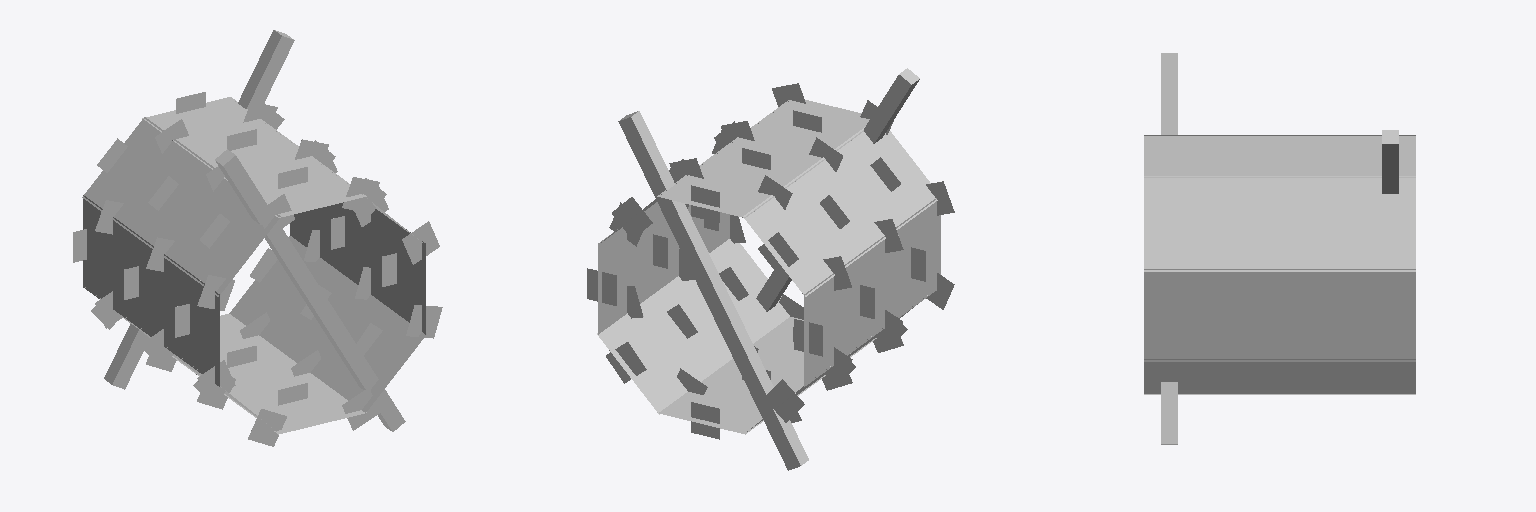
The model's file is 879_barbed_wire.obj.
3 renders of one model, left to right at view 1: azimuth 30°, elevation 25°; view 2: azimuth 150°, elevation 25°; view 3: azimuth 270°, elevation 25°, orthographic.
Parts seen in each view (by area): view 1: wire2, wire6, wire3, wire1, wire7, wire5, support1, support2, navajas6m6, navajas6m5, navajas6, navajas6m4 (+4 smaller); view 2: wire2, wire6, wire3, wire1, support2, wire7, wire5, support1, navajas1, navajas1m6, navajas1m5, navajas1m2 (+4 smaller); view 3: wire8, wire7, wire1, wire6, support1, support2.
Boxes of the visible parts, x1=… form: wire2: x1=82, y1=117, x2=280, y2=296; wire6: x1=229, y1=236, x2=426, y2=414; wire3: x1=83, y1=195, x2=219, y2=386; wire1: x1=142, y1=97, x2=366, y2=217; wire7: x1=290, y1=202, x2=425, y2=334; wire5: x1=172, y1=314, x2=366, y2=434; support1: x1=215, y1=149, x2=405, y2=431; support2: x1=104, y1=30, x2=294, y2=389; navajas6m6: x1=248, y1=409, x2=286, y2=446; navajas6m5: x1=402, y1=221, x2=439, y2=264; navajas6: x1=342, y1=177, x2=379, y2=212; navajas6m4: x1=197, y1=360, x2=235, y2=403; wire2: x1=743, y1=127, x2=937, y2=296; wire6: x1=597, y1=239, x2=789, y2=414; wire3: x1=804, y1=198, x2=940, y2=386; wire1: x1=657, y1=100, x2=869, y2=217; support2: x1=618, y1=111, x2=808, y2=470; wire7: x1=598, y1=202, x2=729, y2=334; wire5: x1=657, y1=317, x2=876, y2=434; support1: x1=756, y1=68, x2=919, y2=311; navajas1: x1=612, y1=197, x2=652, y2=239; navajas1m6: x1=764, y1=379, x2=804, y2=422; navajas1m5: x1=587, y1=268, x2=616, y2=305; navajas1m2: x1=691, y1=185, x2=719, y2=222; wire8: x1=1144, y1=176, x2=1415, y2=271; wire7: x1=1144, y1=269, x2=1415, y2=361; wire1: x1=1144, y1=136, x2=1415, y2=177; wire6: x1=1144, y1=359, x2=1415, y2=393; support1: x1=1161, y1=53, x2=1177, y2=444; support2: x1=1382, y1=130, x2=1398, y2=193.
Size of the model in its own units: 1.04 by 1.33 by 1.